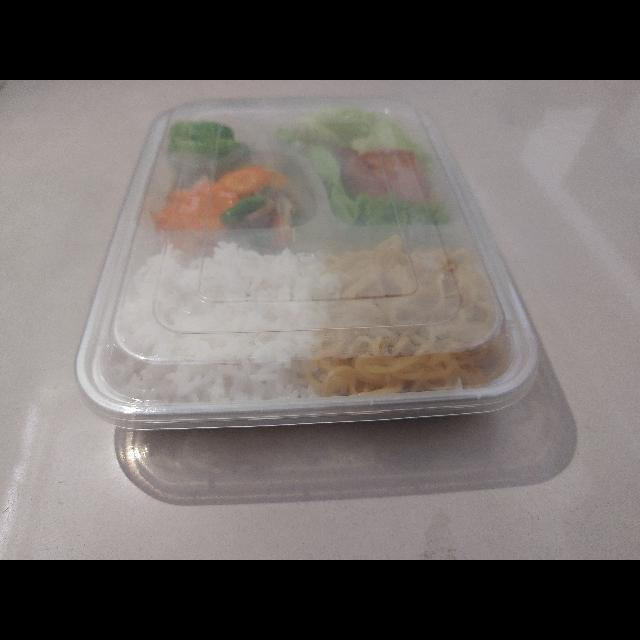bento: (76, 98, 544, 438)
